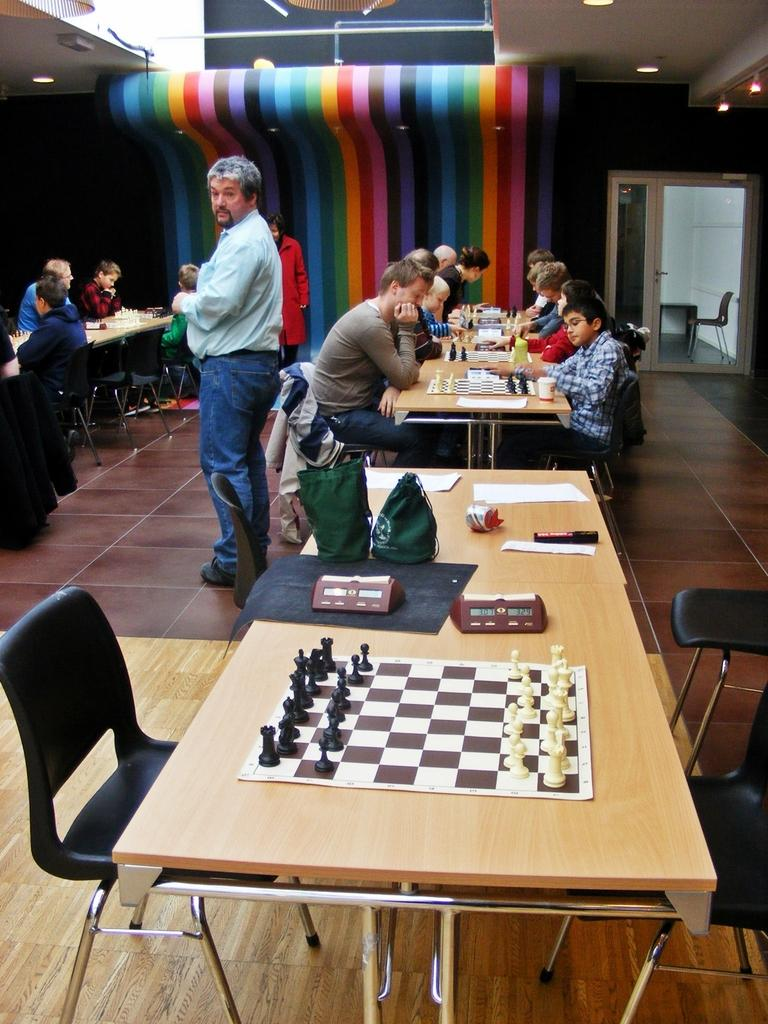Chair: (7, 541, 308, 990), (543, 700, 767, 1023), (668, 583, 767, 770), (546, 378, 642, 504), (291, 368, 381, 469), (83, 331, 149, 450), (51, 342, 100, 464), (121, 323, 172, 435), (688, 289, 732, 364), (159, 330, 198, 413)
